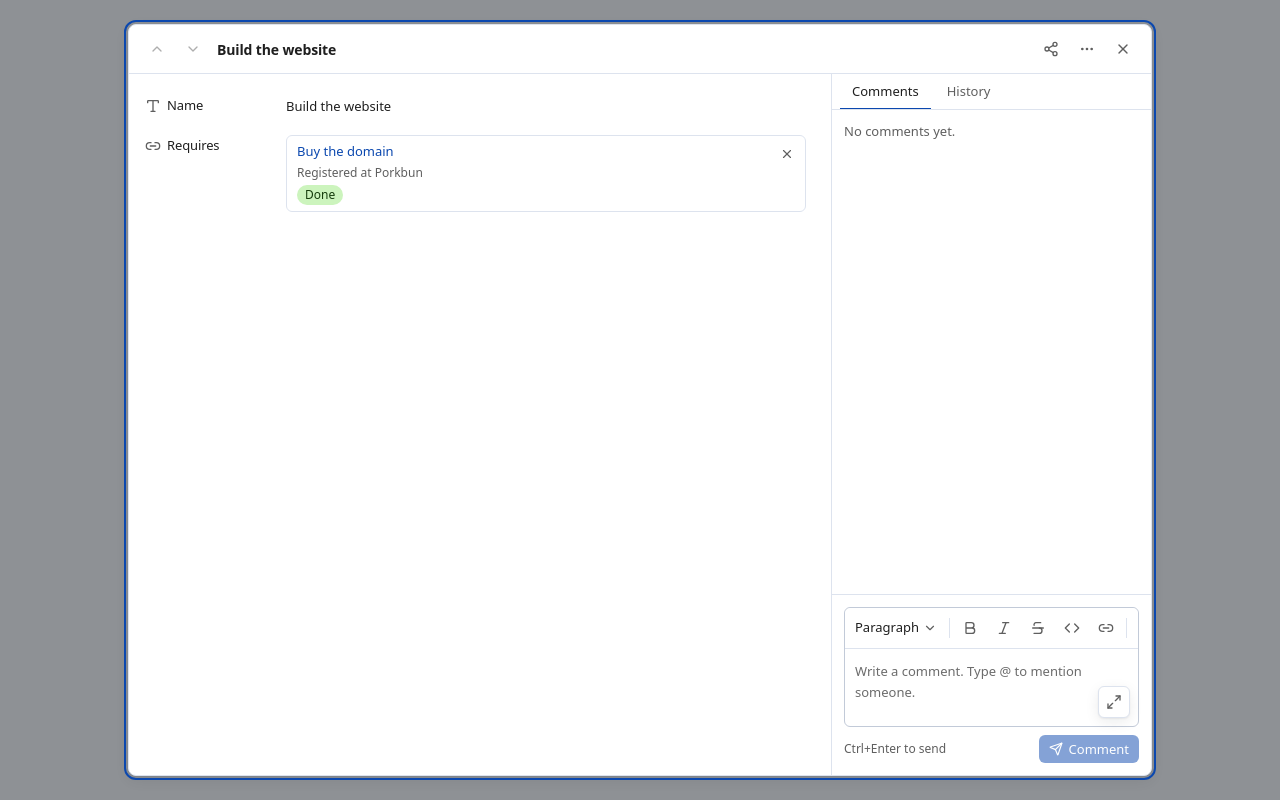
Test: linked records in the record panel › shows each linked record as a card with its title, description and labels; a click edits the field
Expected: the text "Done" is shown, [297,185,343,205]
# A click is an edit of the field, not a way into the record (that is the Open of its details).
Click the element showing "Buy the domain Registered at Porkbun Done" at (546, 174), box [286,135,806,212]
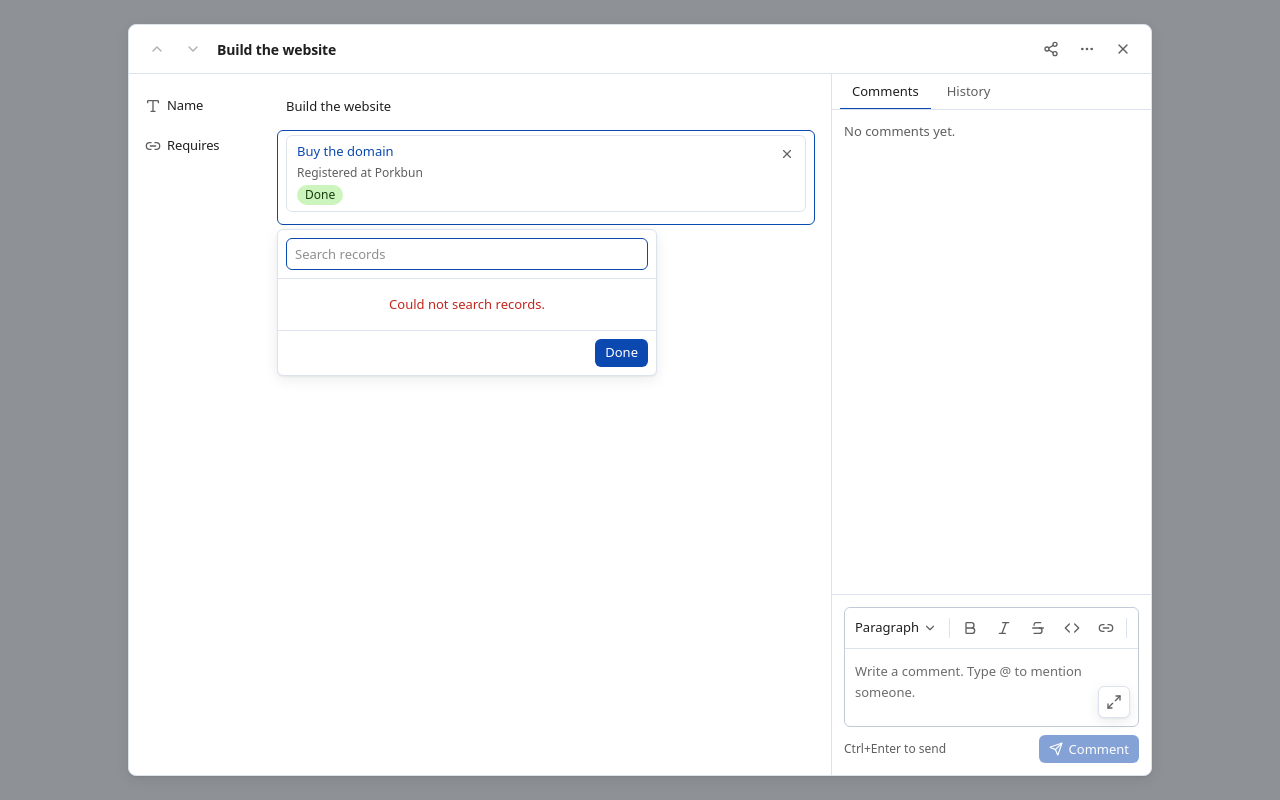
Expected: the dropdown named "Search Requires" is shown, [286,238,648,270]
